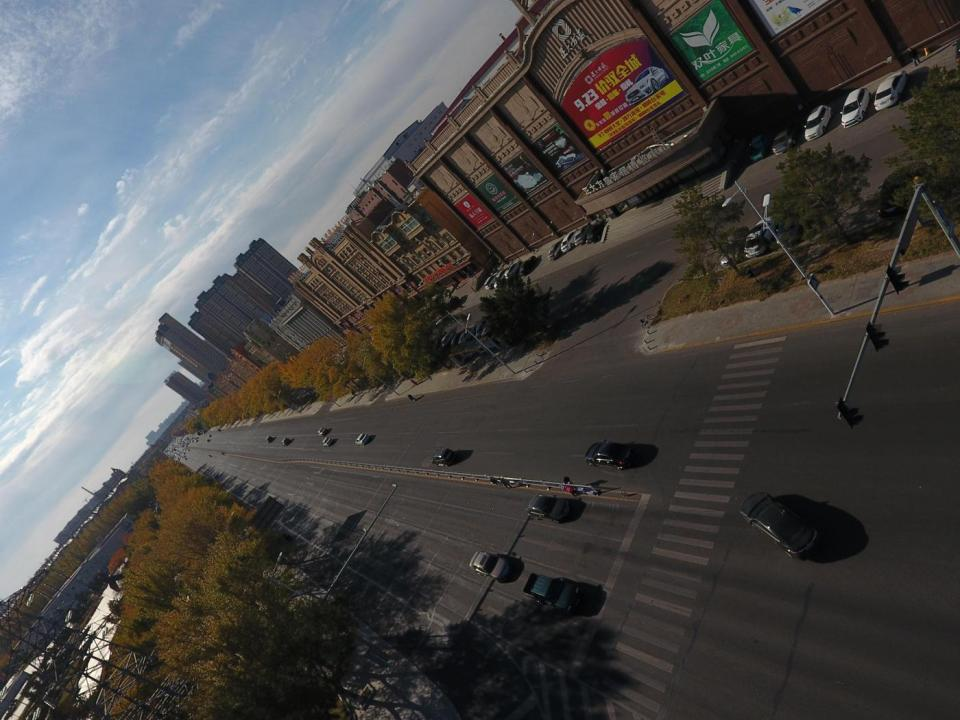car: (737, 490, 821, 558), (878, 160, 929, 218), (874, 70, 910, 112), (469, 550, 514, 583), (584, 441, 634, 470), (745, 215, 778, 257), (777, 202, 808, 246), (524, 494, 569, 524), (720, 226, 751, 268), (842, 87, 872, 129), (772, 119, 804, 154), (805, 104, 835, 141), (586, 219, 606, 245), (431, 448, 458, 465), (561, 228, 580, 252), (548, 237, 568, 259), (574, 222, 592, 246), (458, 325, 477, 346), (518, 256, 536, 276), (494, 268, 509, 290), (504, 260, 522, 278), (450, 328, 466, 347), (482, 317, 497, 336), (440, 332, 454, 352), (484, 272, 499, 290), (354, 433, 371, 446), (446, 296, 459, 312), (475, 322, 487, 338), (322, 437, 333, 447), (317, 427, 329, 436), (281, 438, 292, 446), (266, 436, 273, 444), (208, 434, 211, 437), (207, 439, 209, 441), (184, 458, 186, 460)
truck: (522, 572, 580, 611)
